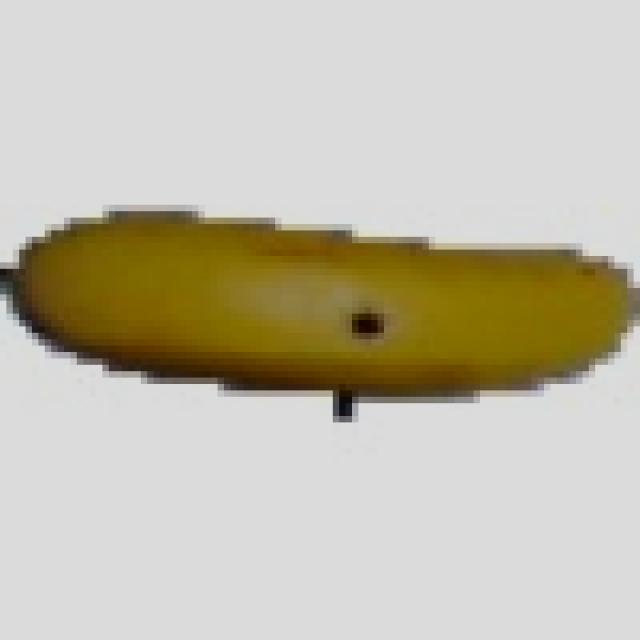banana_pacche: (4, 12, 630, 590)
